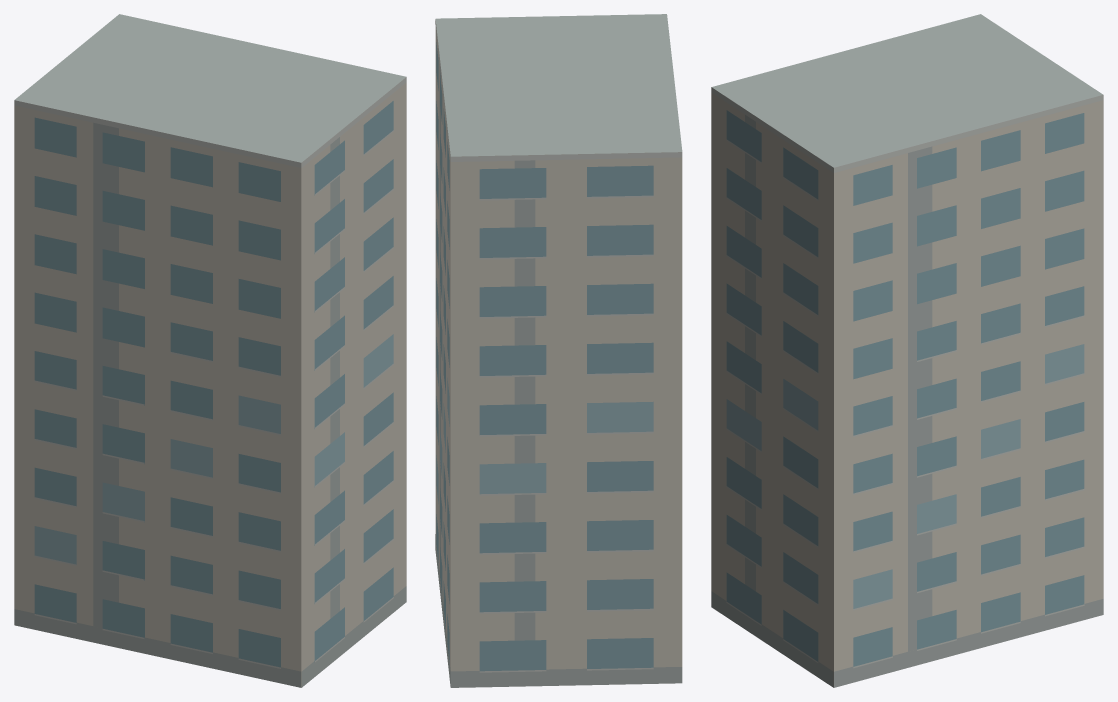
Rendered from residential-05a625b7-f921-4aa1-b52f-24b15ba9813d.glb.
3 views of the same model, side by side, from view 1: azimuth 30°, elevation 25°; view 2: azimuth 150°, elevation 25°; view 3: azimuth 270°, elevation 25° (orthographic). The views are drawn at different scales.
Visible parts, largest first — view 1: residential-05a625b7-f921-4aa1-b52f-24b15ba9813d.tmp; view 2: residential-05a625b7-f921-4aa1-b52f-24b15ba9813d.tmp; view 3: residential-05a625b7-f921-4aa1-b52f-24b15ba9813d.tmp.
Boxes of the visible parts, x1=… form: residential-05a625b7-f921-4aa1-b52f-24b15ba9813d.tmp: x1=14, y1=14, x2=406, y2=687; residential-05a625b7-f921-4aa1-b52f-24b15ba9813d.tmp: x1=435, y1=14, x2=682, y2=687; residential-05a625b7-f921-4aa1-b52f-24b15ba9813d.tmp: x1=711, y1=14, x2=1103, y2=687.
Size of the model in its own units: 15.23 by 24 by 16.41.
